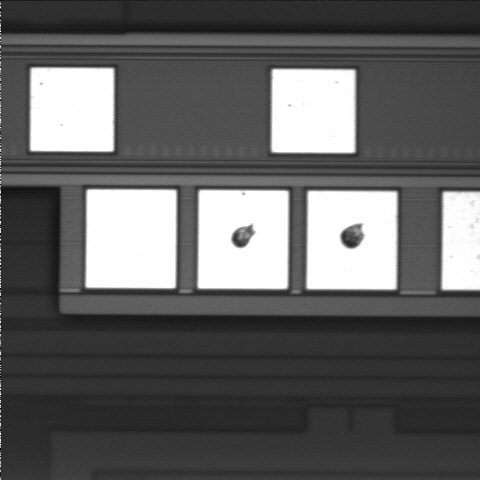pad: (198, 190, 288, 289), (86, 190, 176, 288), (307, 191, 397, 289), (30, 68, 114, 151), (272, 69, 355, 153)
